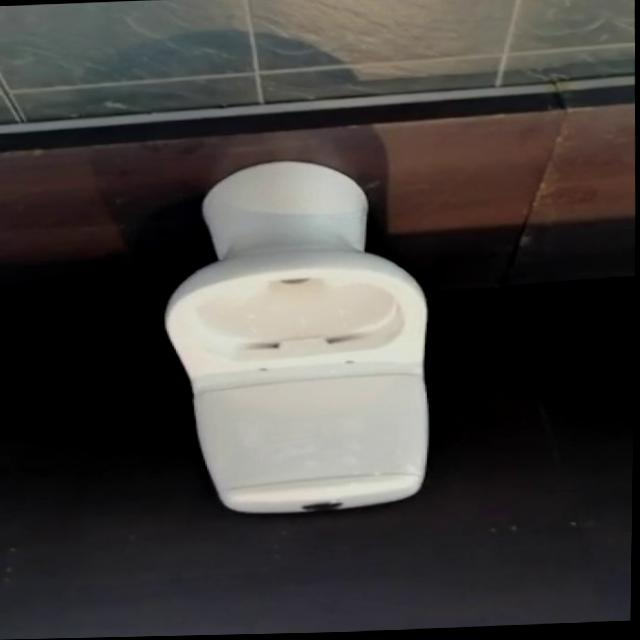toilet: (160, 156, 438, 521)
